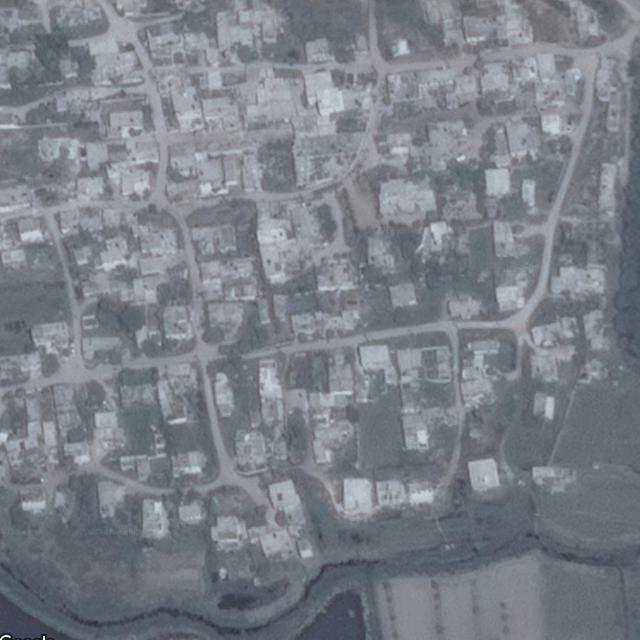damaged_building: (378, 176, 436, 221), (290, 310, 359, 340)
